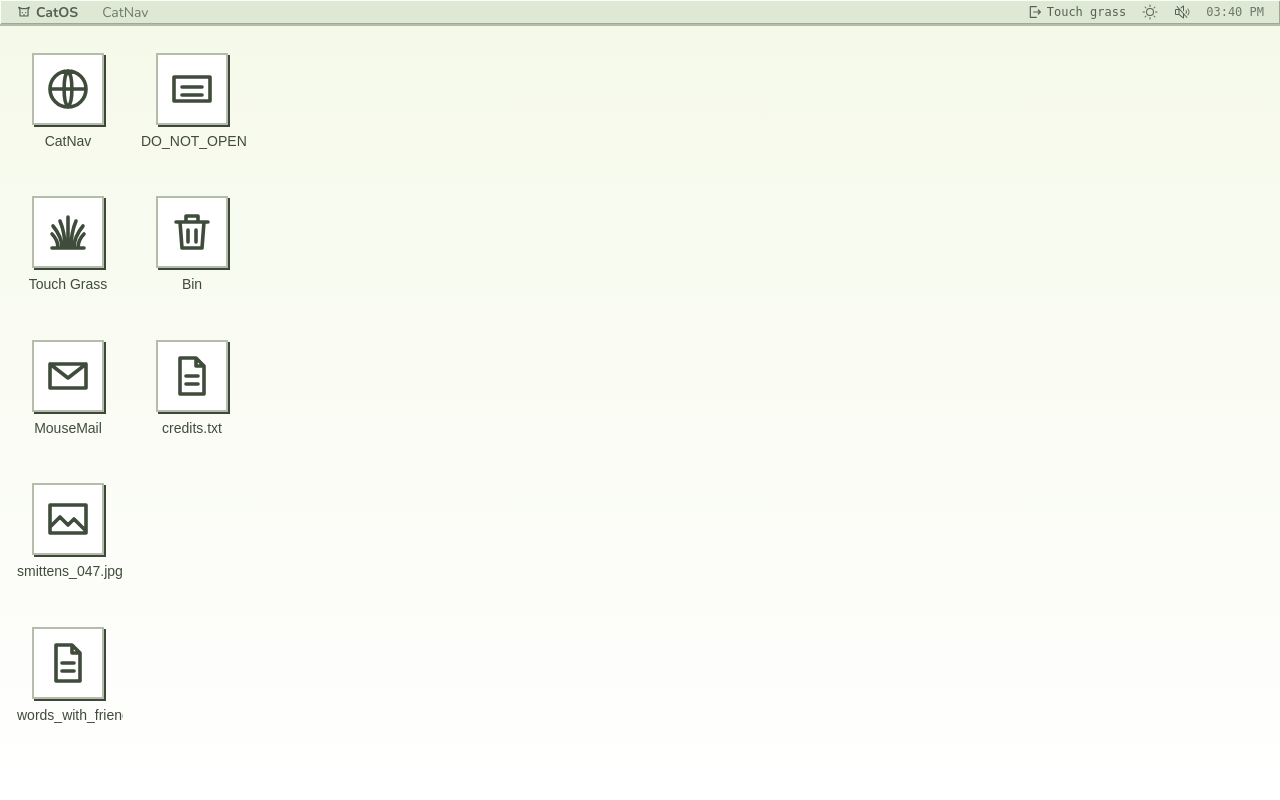
Test case: LaptopScreenOverlay (CatOS) › the desktop's junk drawer › opens a desktop item at its own URL
Click the button "words_with_friends.txt" at (68, 687), box [8,618,128,757]
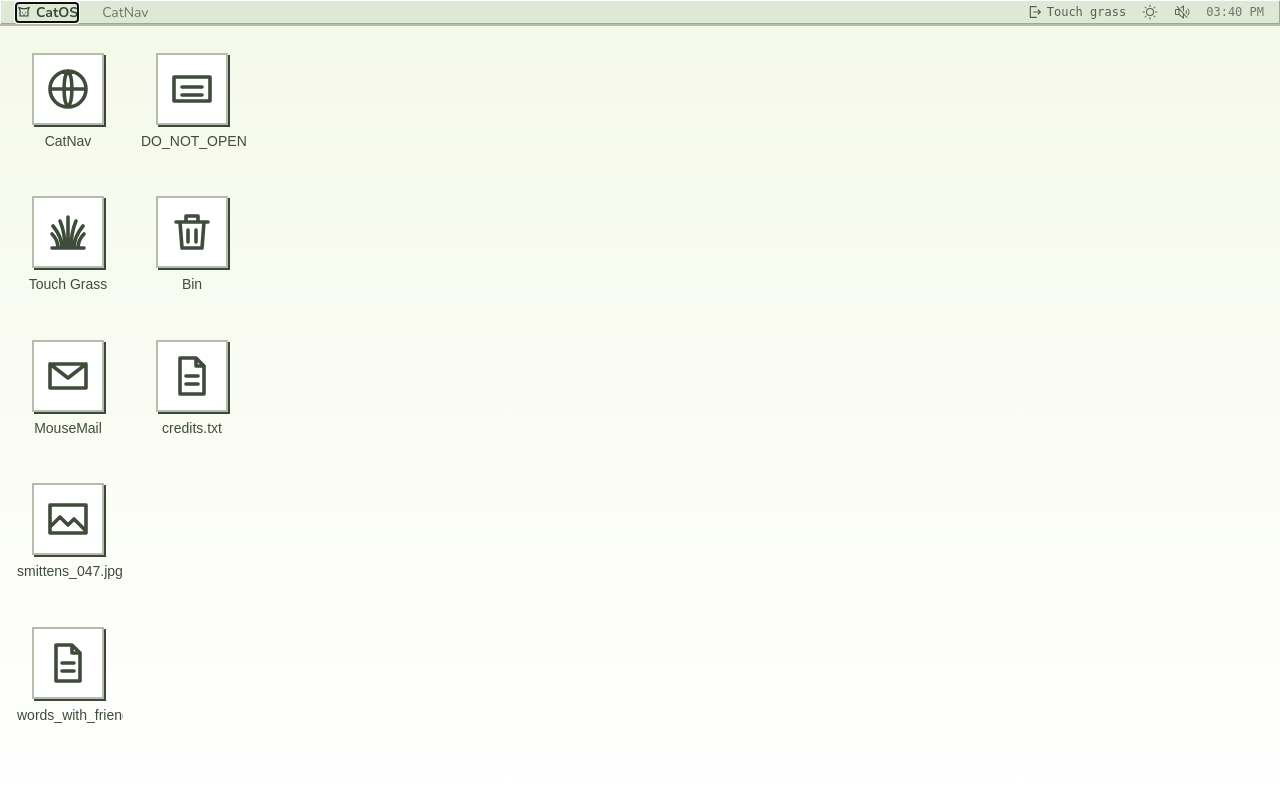
Now the text with test id "path" reads "/blog/desk/words-with-friends-txt", box [0,0,244,22]
